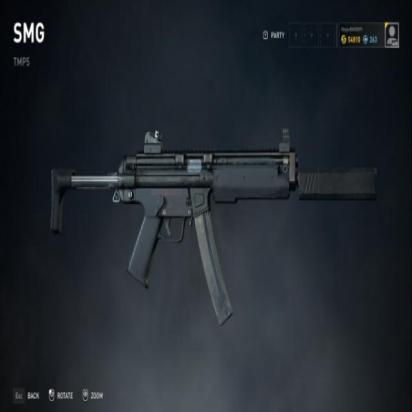Gun: (50, 132, 378, 330)
